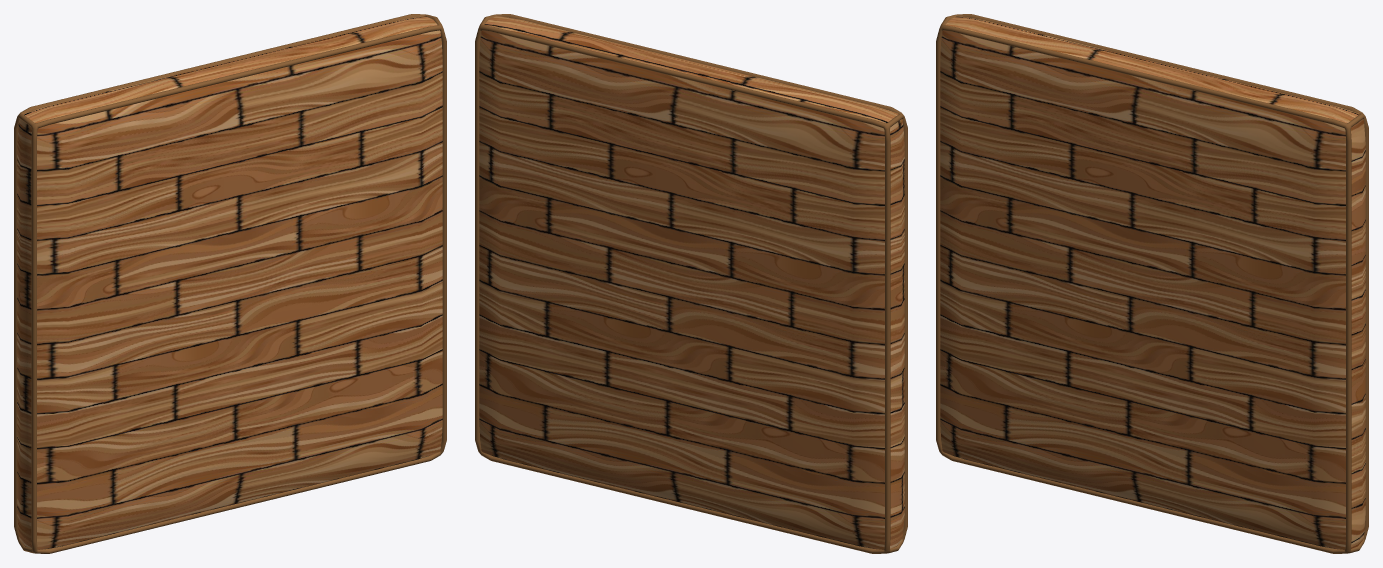
The model's file is SM_FoamWall_1x1.fbx.
3 views of the same model, side by side, from view 1: azimuth 30°, elevation 25°; view 2: azimuth 150°, elevation 25°; view 3: azimuth 330°, elevation 25° (orthographic).
Visible parts, largest first — view 1: SM_SoftFoam_Wall_10_1x1; view 2: SM_SoftFoam_Wall_10_1x1; view 3: SM_SoftFoam_Wall_10_1x1.
Boxes of the visible parts, x1,y1,x2,y2 form: SM_SoftFoam_Wall_10_1x1: [14, 14, 446, 553]; SM_SoftFoam_Wall_10_1x1: [475, 14, 907, 553]; SM_SoftFoam_Wall_10_1x1: [936, 14, 1368, 553].
Bounding box in the file's own units: 83.6 × 83.6 × 10.
